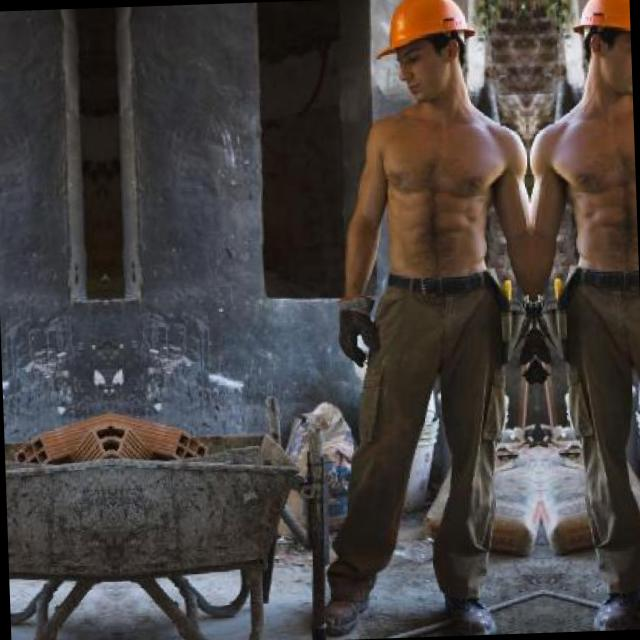helmet: (369, 0, 479, 99), (567, 0, 629, 94)
